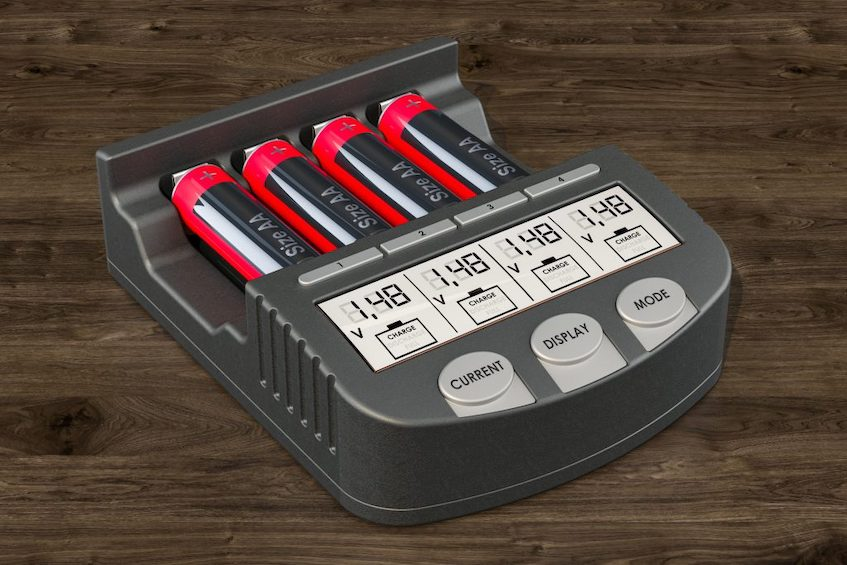Battery: (166, 161, 317, 281), (304, 109, 455, 229), (374, 90, 528, 199), (241, 138, 383, 254)
